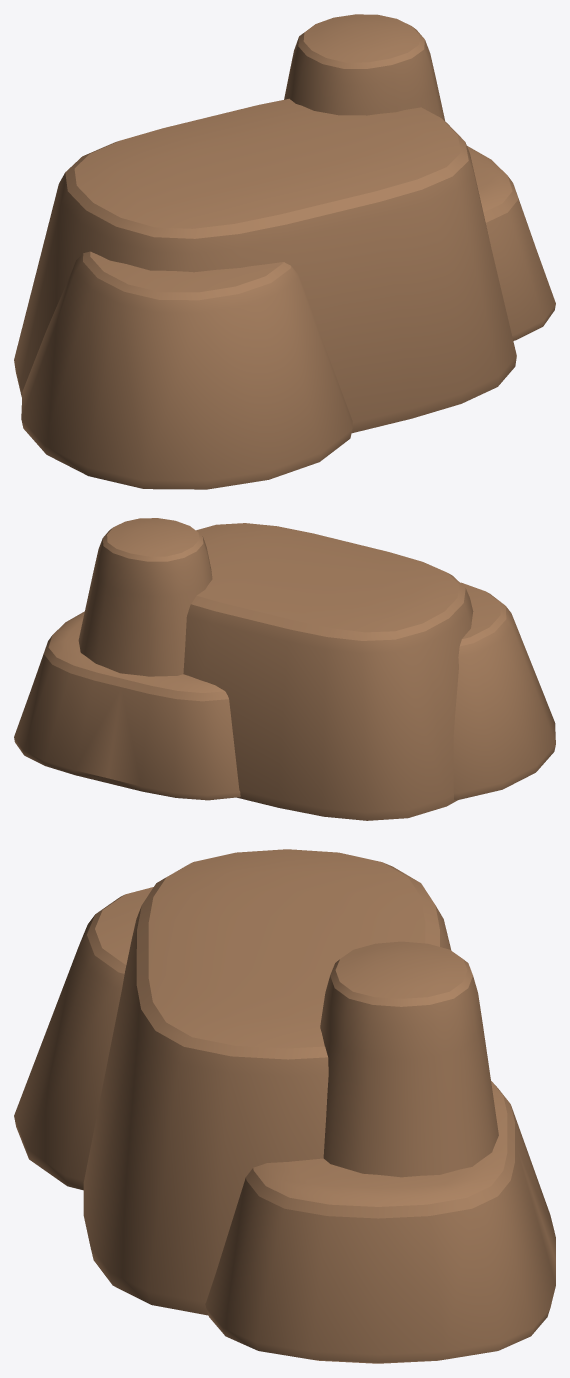
The model's file is RockPlatforms_2.glb.
3 views of the same model, one above another, from view 1: azimuth 30°, elevation 25°; view 2: azimuth 150°, elevation 25°; view 3: azimuth 270°, elevation 25° (orthographic). The views are drawn at different scales.
Parts seen in each view (by area): view 1: RockPlatforms_2; view 2: RockPlatforms_2; view 3: RockPlatforms_2.
Part boxes in pixels (left/top/right/bottom): RockPlatforms_2: left=14, top=14, right=555, bottom=489; RockPlatforms_2: left=14, top=518, right=555, bottom=820; RockPlatforms_2: left=14, top=849, right=555, bottom=1363.
Bounding box in the file's own units: 9.32 × 4.45 × 6.74.
